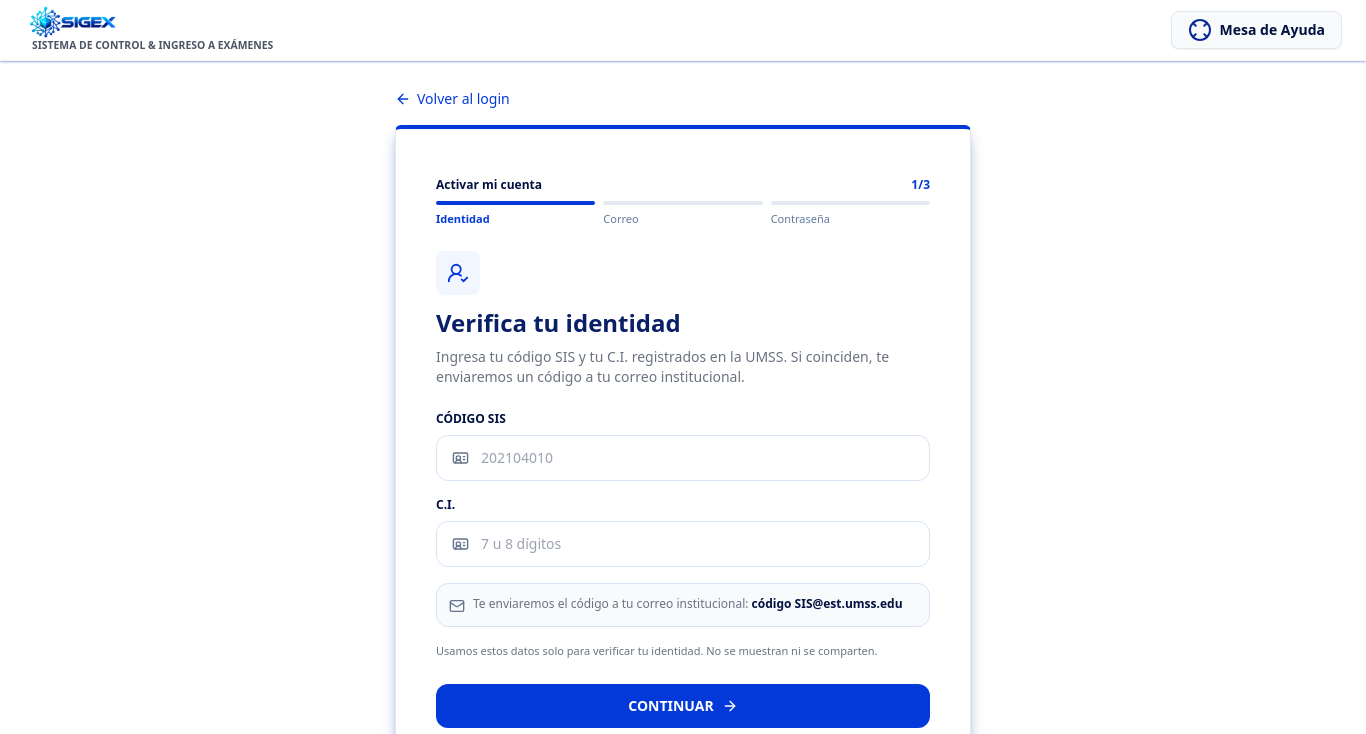
Scenario: ActivarCuentaPage (CTA-01) › valida el formato de los datos antes de pedir el código
Type "2021" into the field labelled "CÓDIGO SIS" at (683, 458), box [436,435,930,481]
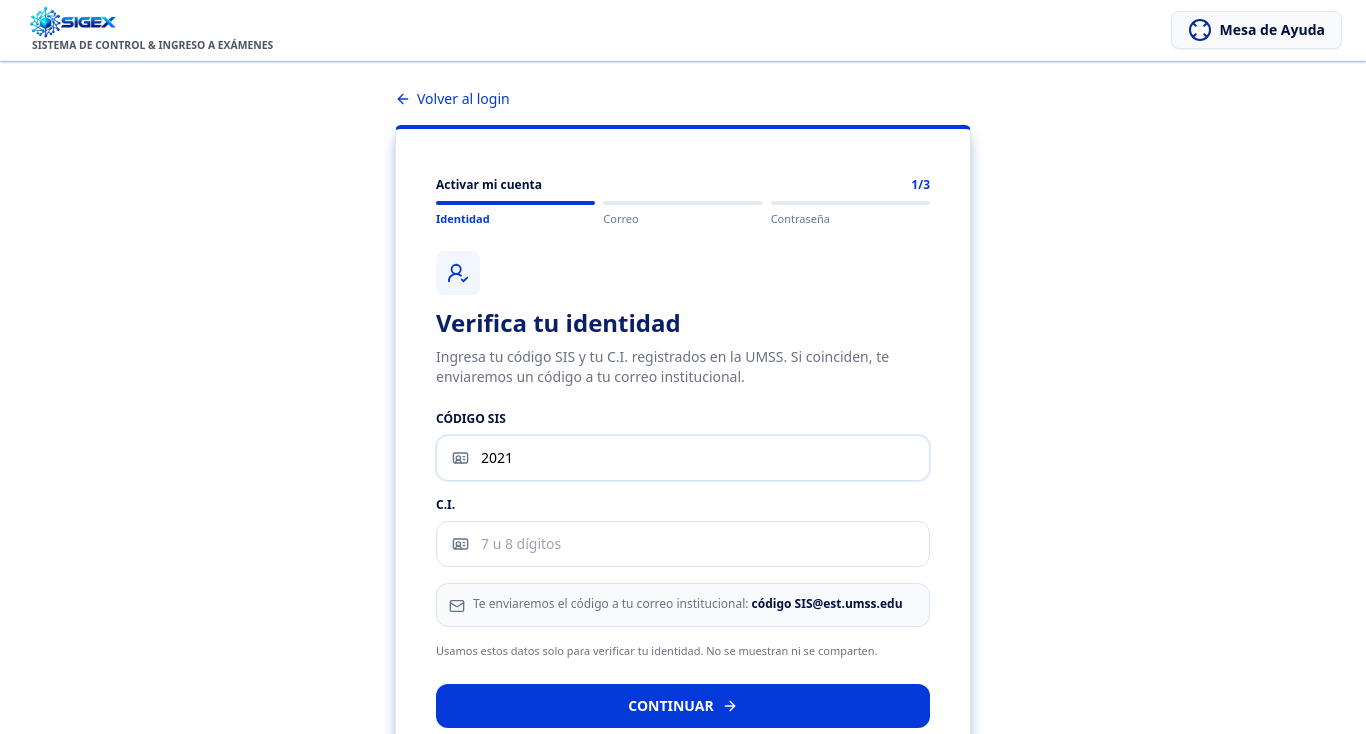
Type "12" into the field labelled "C.I." at (683, 544), box [436,521,930,567]
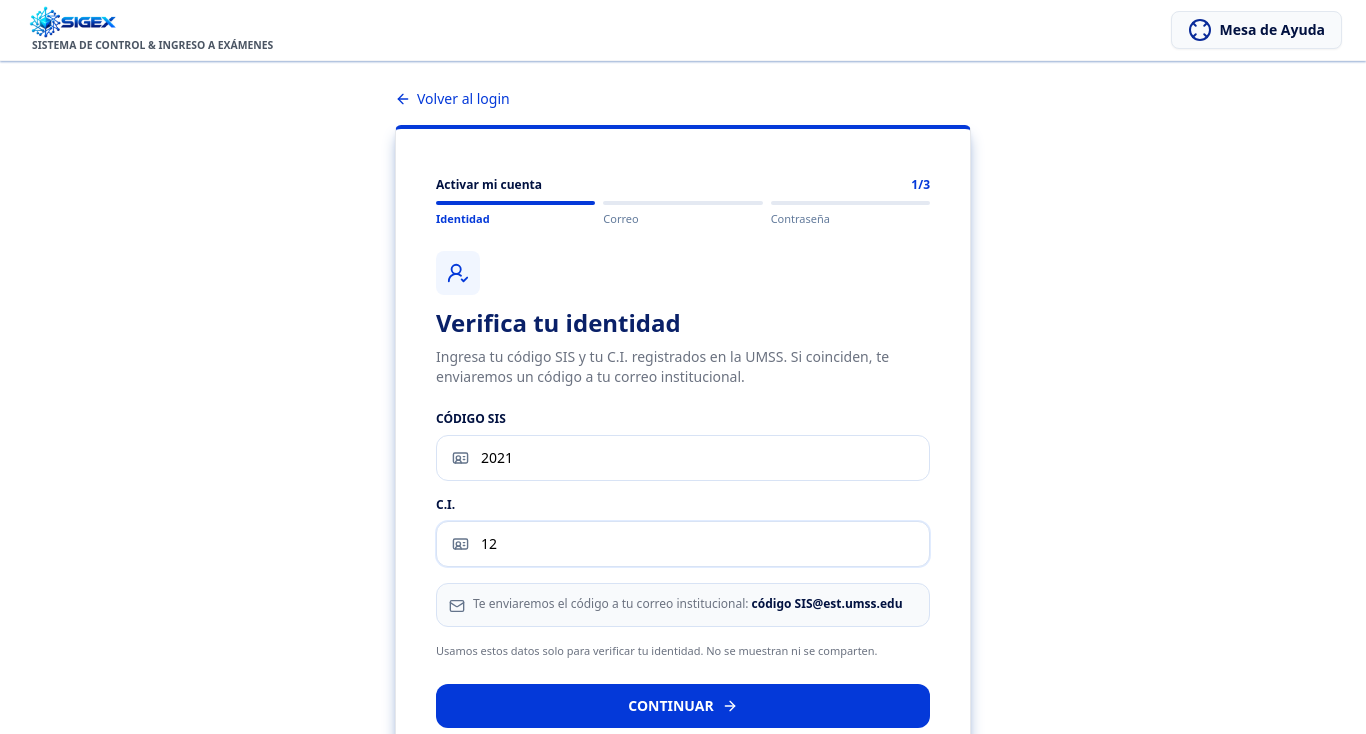
Click the button "CONTINUAR" at (683, 706), box [436,684,930,728]
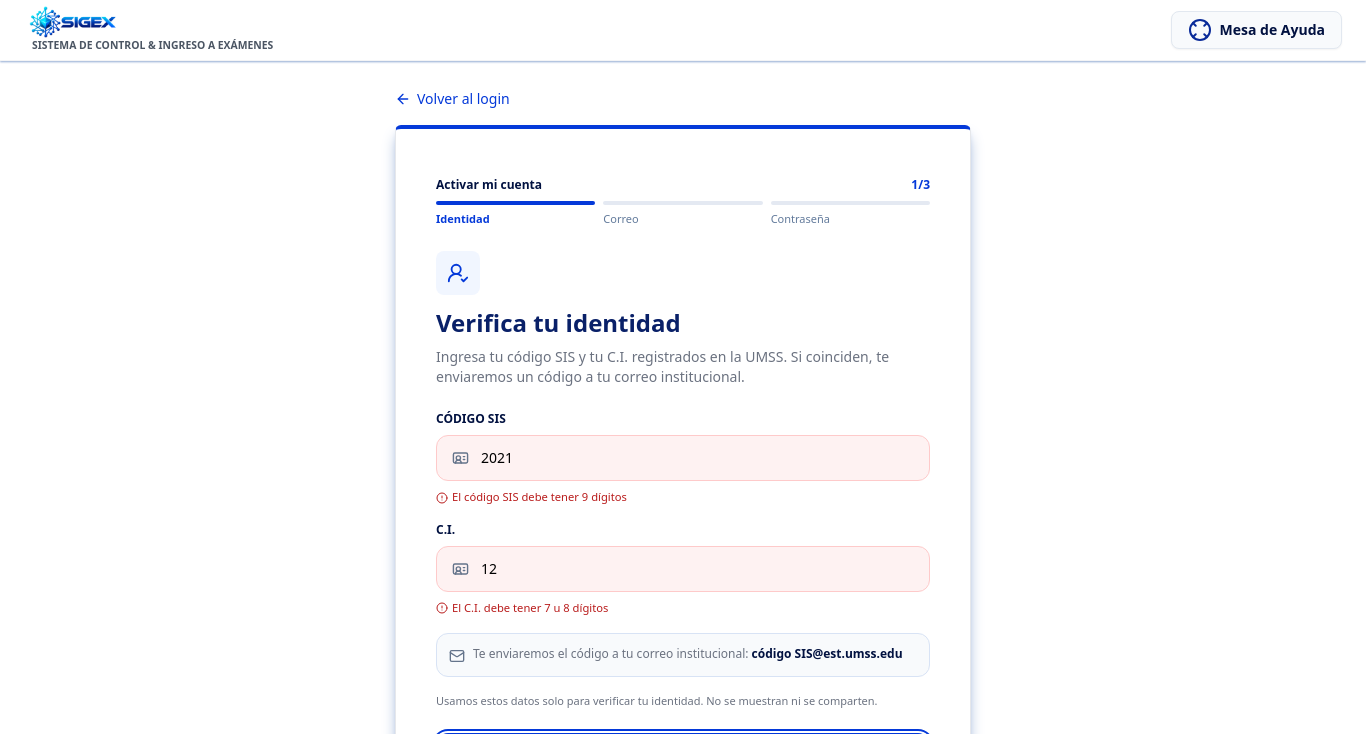
Expected: the text "El código SIS debe tener 9 dígitos" is shown, [436,489,627,504]
Expected: the text "El C.I. debe tener 7 u 8 dígitos" is shown, [436,600,608,615]
